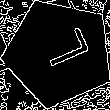L_SW: (29, 29, 89, 77)
